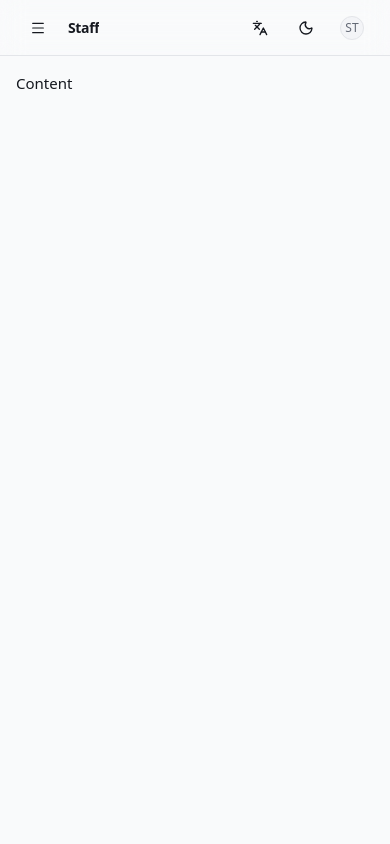
Test: keeps the staff hamburger and mobile drawer available by default
Click the button named "Abrir menu de navegação" at (38, 28), box [16,6,60,50]
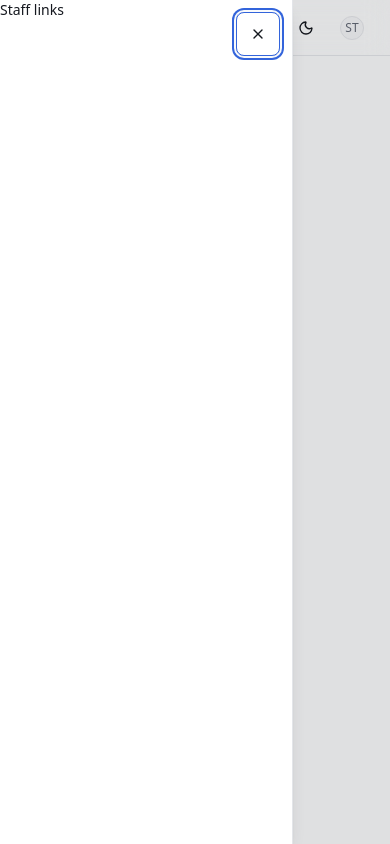
Check: the navigation bar "Staff" is shown, box [0,0,64,19]
